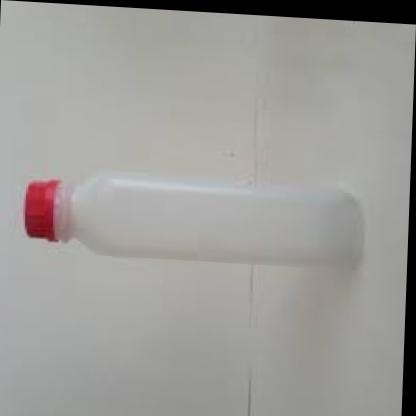trash: (25, 177, 362, 267)
